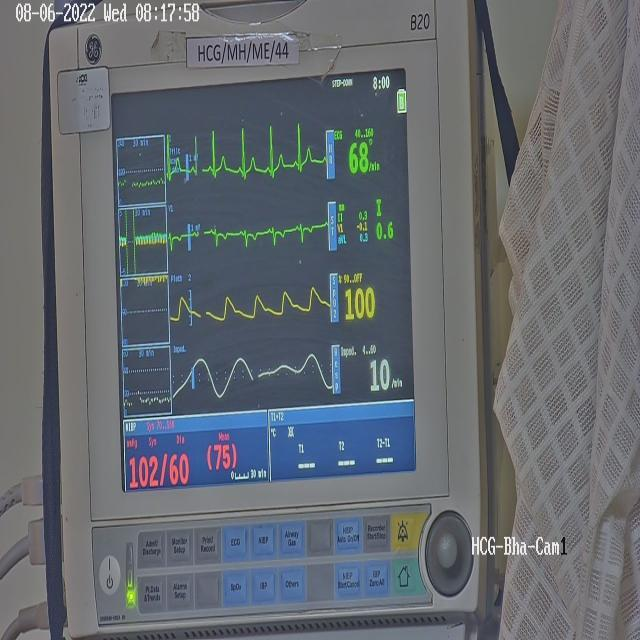Monitor: (39, 0, 493, 638)
